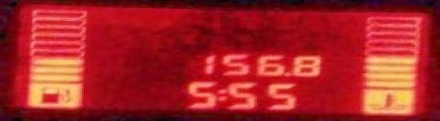-: (283, 71, 290, 76)
1: (202, 53, 213, 74)
5: (225, 81, 256, 110), (183, 80, 215, 108), (265, 82, 296, 110), (217, 52, 248, 75)
6: (253, 53, 283, 76)
8: (290, 53, 321, 76)
X: (215, 88, 226, 101)
